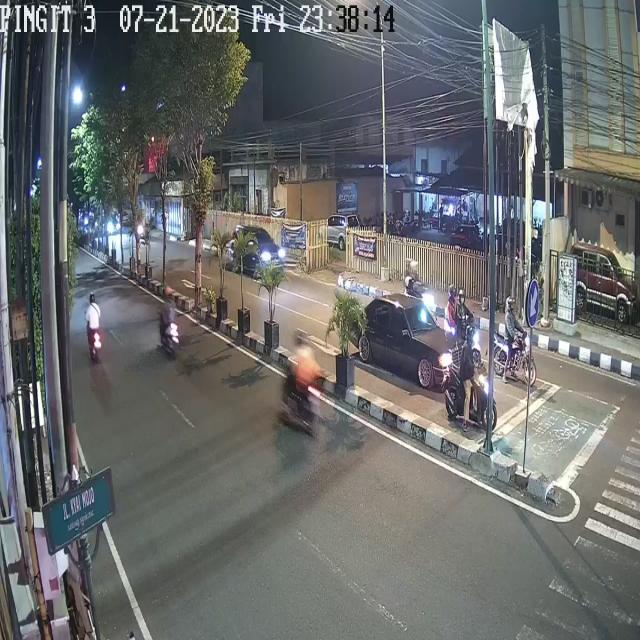car: (343, 291, 468, 393), (229, 224, 286, 284)
motorcycle: (444, 325, 496, 429), (282, 328, 320, 433), (495, 295, 538, 386), (447, 281, 481, 361), (404, 257, 438, 323), (160, 286, 179, 350), (86, 293, 104, 360)
